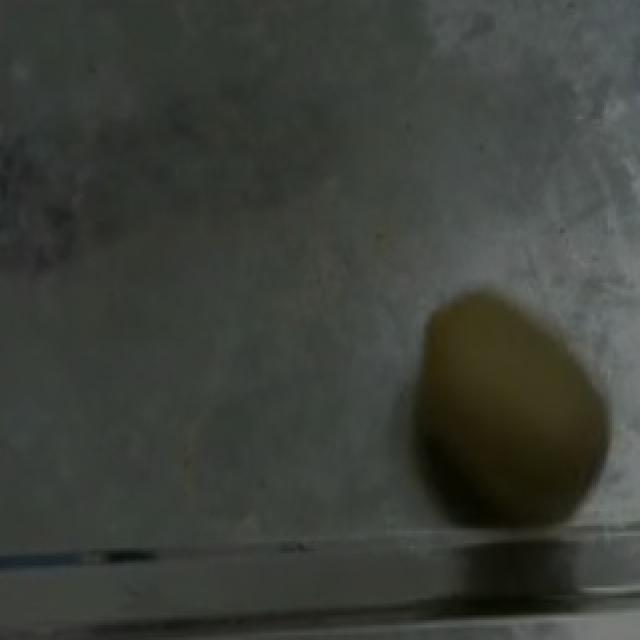Fruit: (392, 285, 622, 526)
